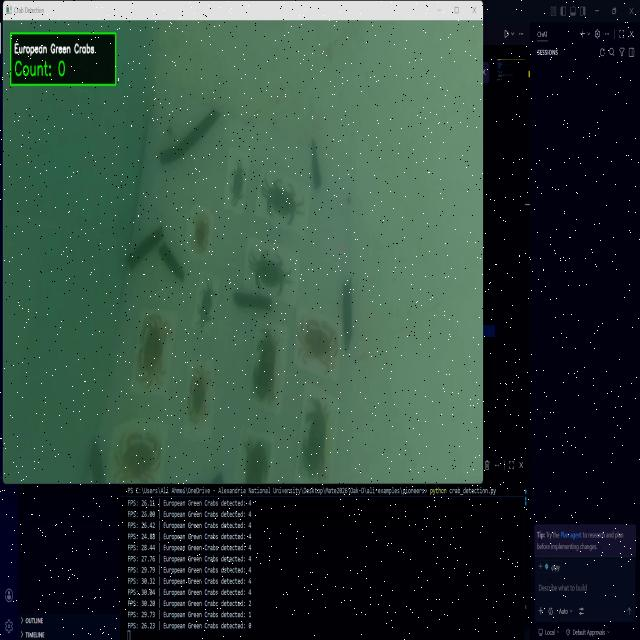European_Green_Crab: (257, 172, 307, 230), (249, 245, 293, 300), (194, 279, 218, 331), (225, 157, 247, 210)
